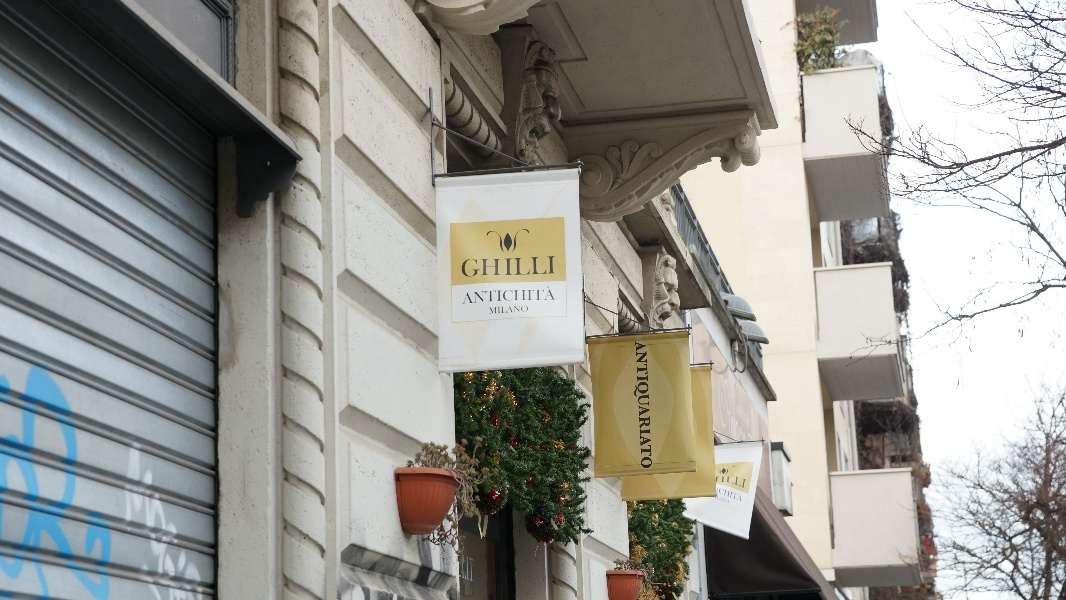text: (145, 431, 160, 598), (161, 431, 176, 598), (177, 431, 192, 598), (193, 431, 208, 598), (133, 431, 144, 598), (641, 342, 653, 469), (632, 342, 640, 469), (465, 255, 480, 278), (481, 255, 496, 278), (497, 255, 512, 278), (513, 255, 528, 278), (529, 255, 544, 278), (209, 431, 211, 598), (481, 286, 496, 305), (497, 286, 512, 305), (513, 286, 528, 305), (529, 286, 544, 305), (545, 255, 557, 278), (465, 556, 475, 583), (467, 286, 480, 305), (545, 286, 557, 305), (721, 475, 736, 489), (721, 488, 736, 502), (513, 306, 529, 315), (737, 475, 747, 489), (497, 306, 512, 315), (737, 488, 743, 502), (721, 495, 730, 504), (461, 556, 464, 583), (716, 475, 720, 489), (490, 306, 496, 315), (462, 255, 464, 278), (717, 495, 720, 504)
